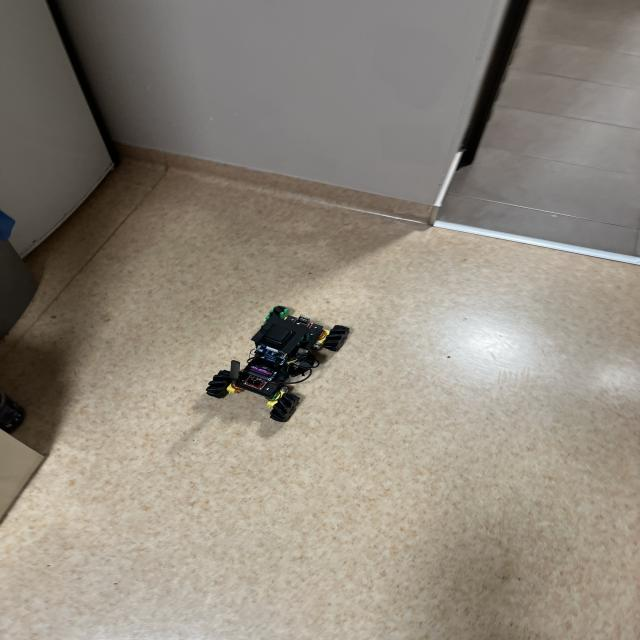robot: (206, 306, 349, 422)
